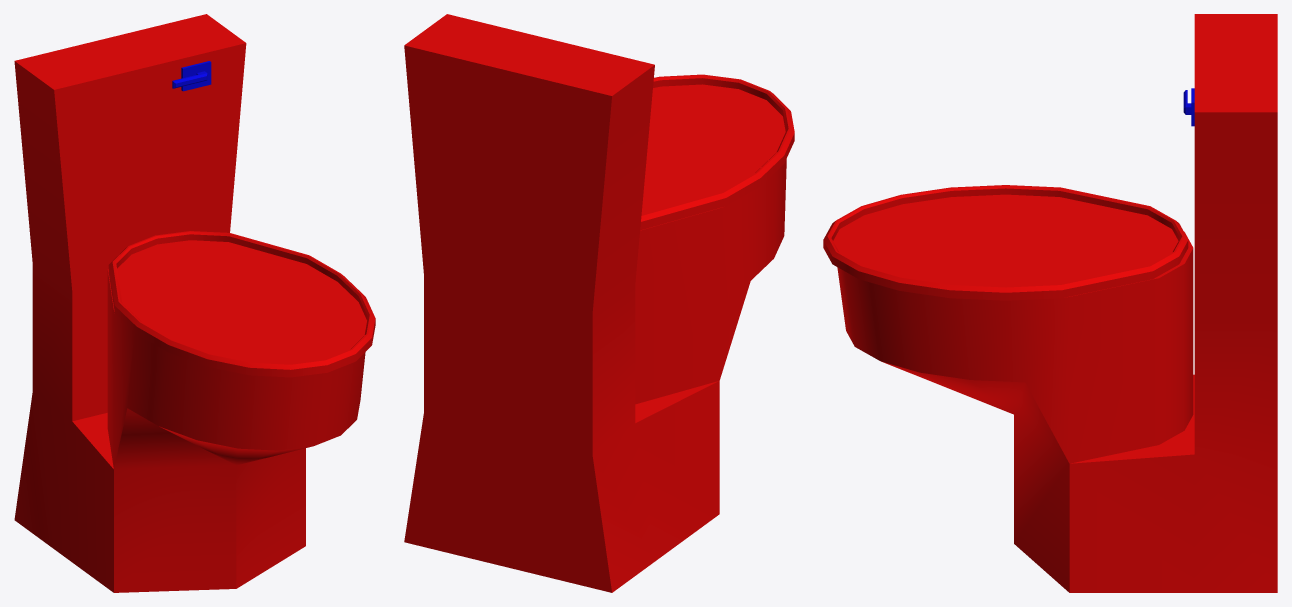
File: Toilet.fbx
3 renders of one model, left to right at view 1: azimuth 30°, elevation 25°; view 2: azimuth 150°, elevation 25°; view 3: azimuth 270°, elevation 25°, orthographic. The views are drawn at different scales.
Visible parts, largest first — view 1: pCylinder2; view 2: pCylinder2; view 3: pCylinder2.
Boxes of the visible parts, left/top/right/bottom form: pCylinder2: left=14, top=14, right=375, bottom=592; pCylinder2: left=404, top=14, right=794, bottom=592; pCylinder2: left=823, top=14, right=1277, bottom=592.
Size of the model in its own units: 44.11 by 93.32 by 79.93.
